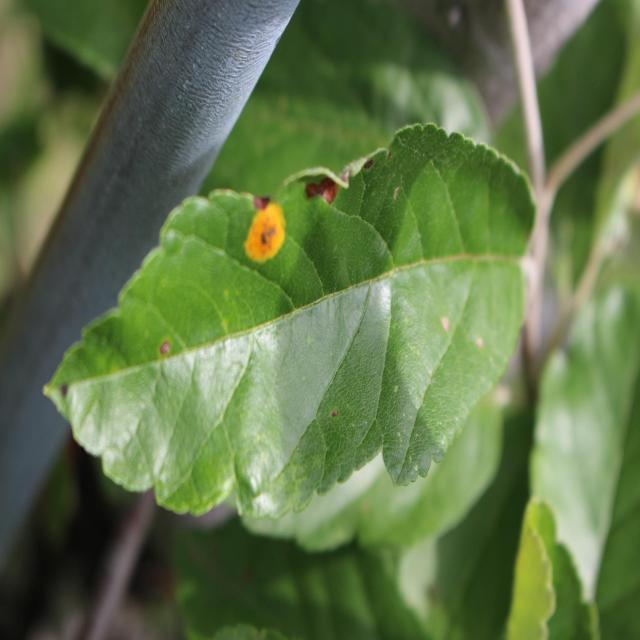Black Rot: (297, 160, 352, 213)
Rust: (242, 200, 291, 272)
